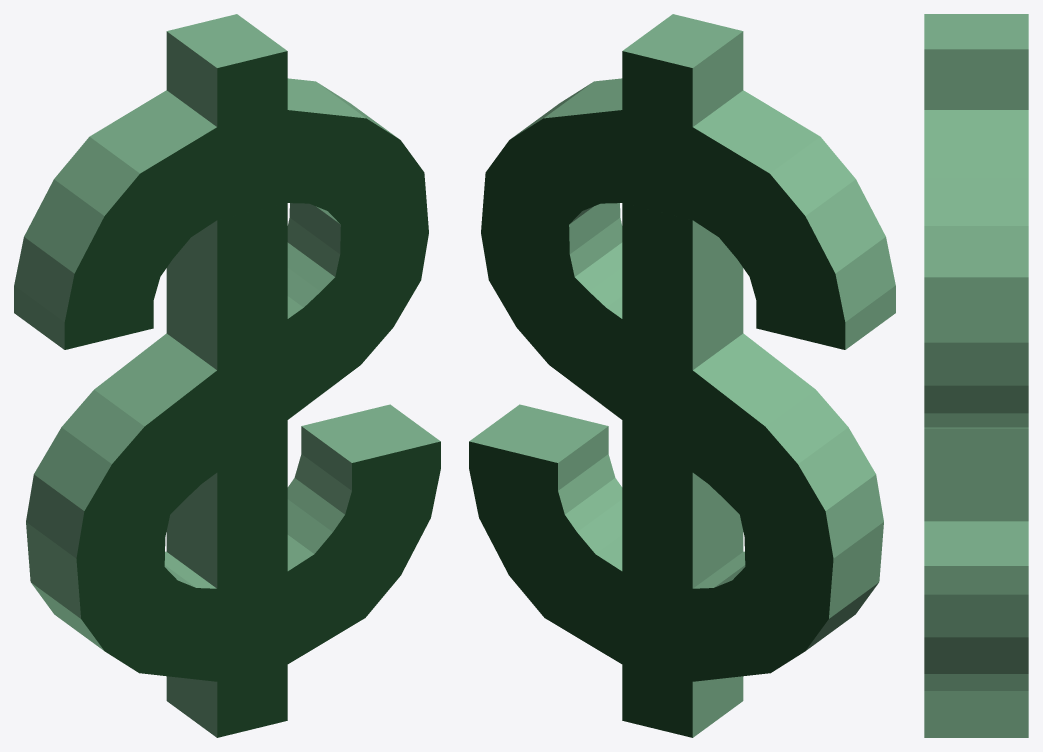
Rendered from Dollar.fbx.
3 renders of one model, left to right at view 1: azimuth 30°, elevation 25°; view 2: azimuth 150°, elevation 25°; view 3: azimuth 270°, elevation 25°, orthographic. The views are drawn at different scales.
Visible parts, largest first — view 1: Dollar; view 2: Dollar; view 3: Dollar.
Boxes of the visible parts, left/top/right/bottom form: Dollar: left=14, top=14, right=440, bottom=737; Dollar: left=469, top=14, right=895, bottom=737; Dollar: left=924, top=14, right=1028, bottom=737.
Size of the model in its own units: 58.73 by 99.93 by 13.68.
